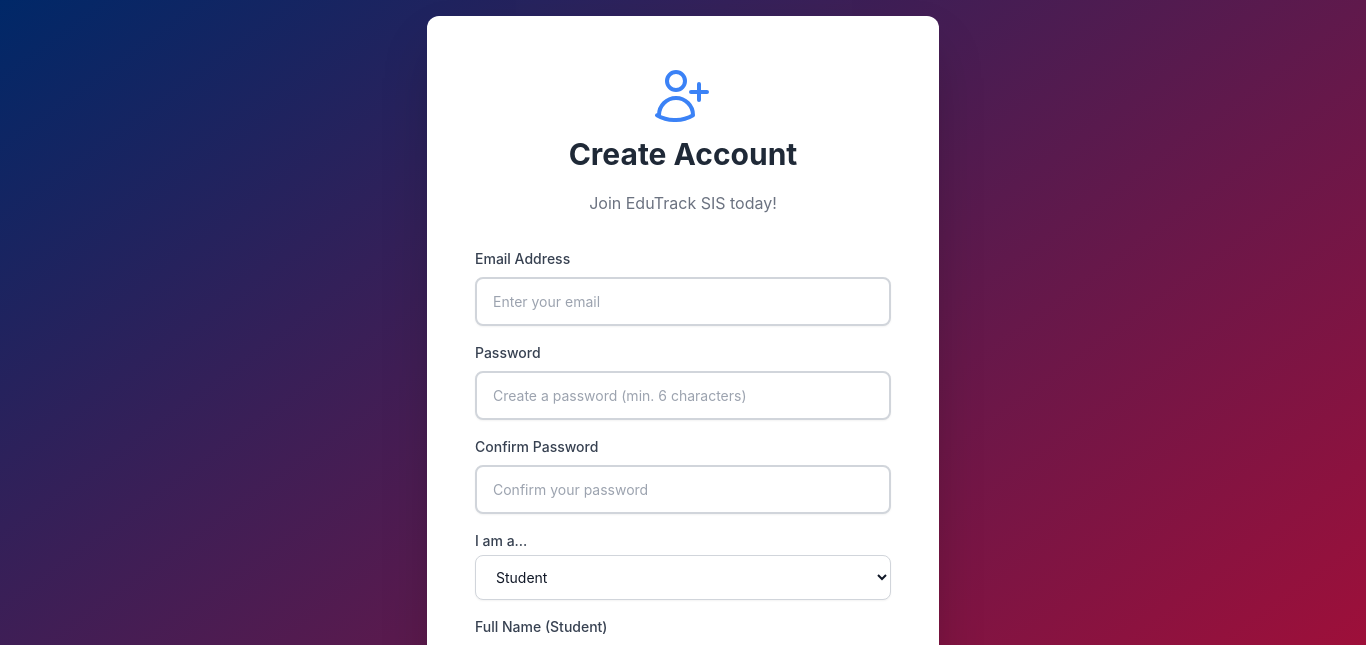
RegisterScreen Component › Form Validation › validates password confirmation match
Type "password123" into the password field labelled "Password" at [683, 395], box [475, 370, 891, 420]
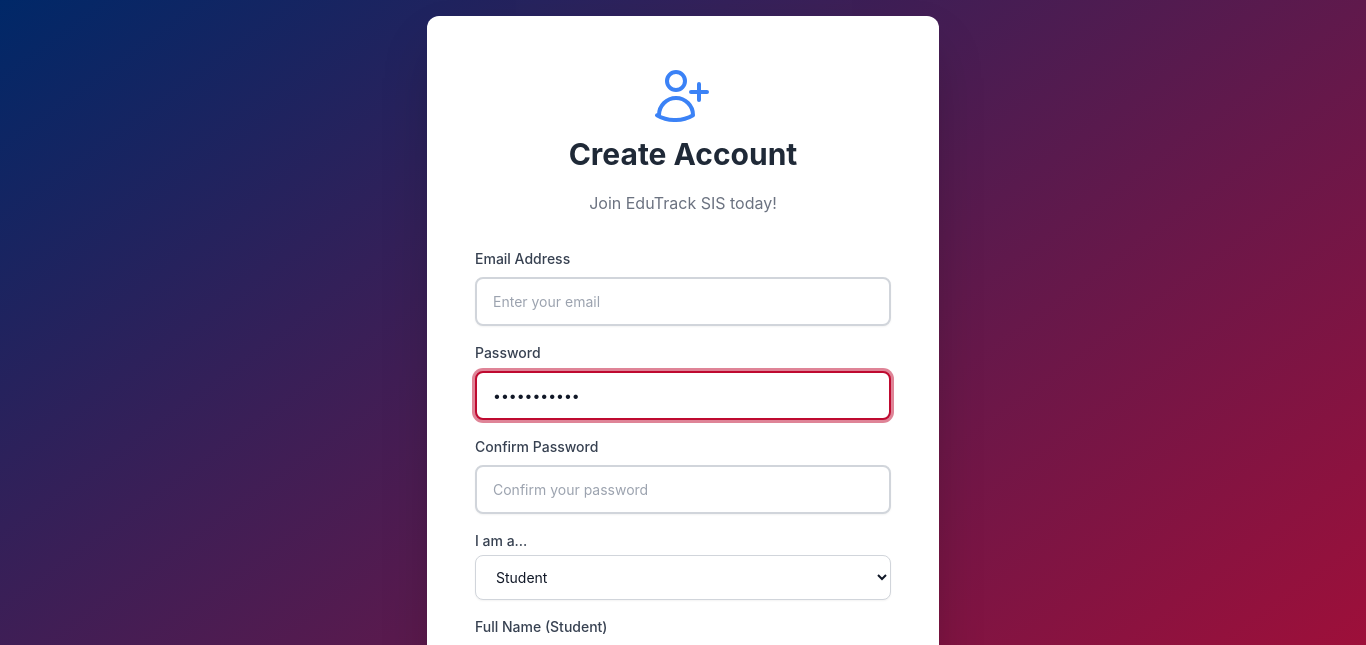
Type "password456" into the password field labelled "Confirm Password" at [683, 489], box [475, 464, 891, 514]
(page scrolled)
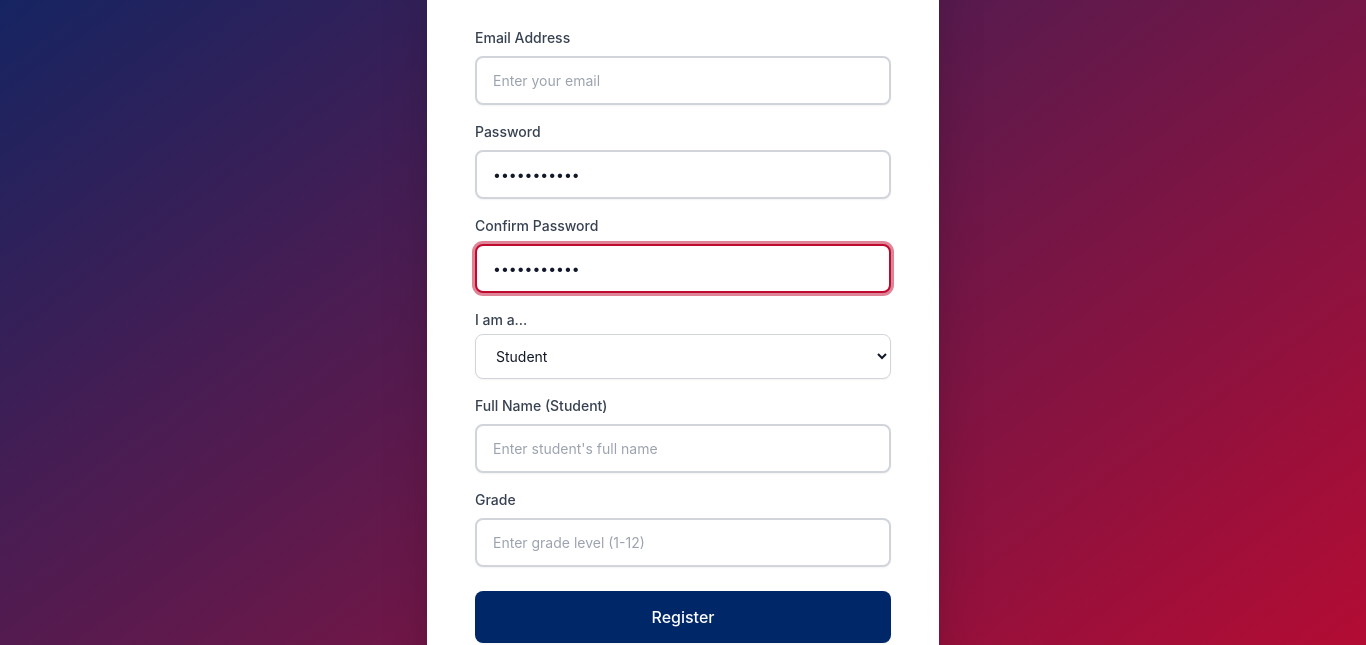
Click the button "Register" at [683, 616], box [475, 590, 891, 642]
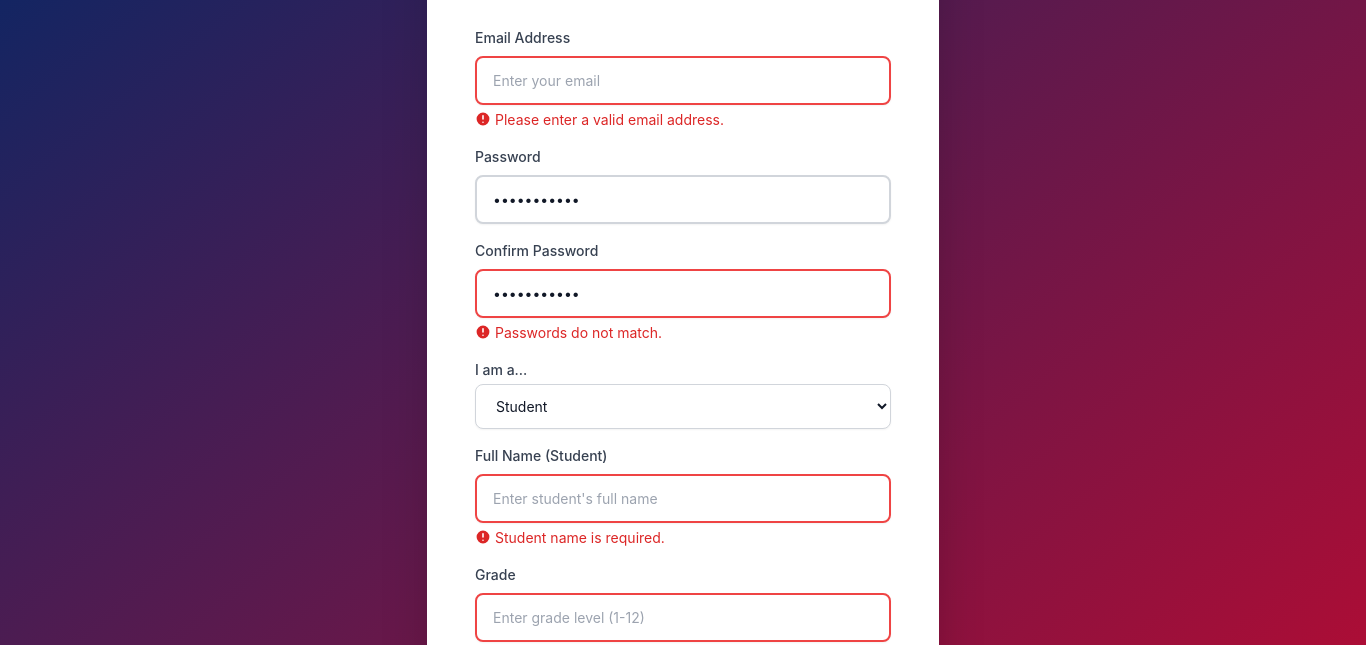
Expected: the text "Passwords do not match." is shown, [475, 324, 662, 340]
